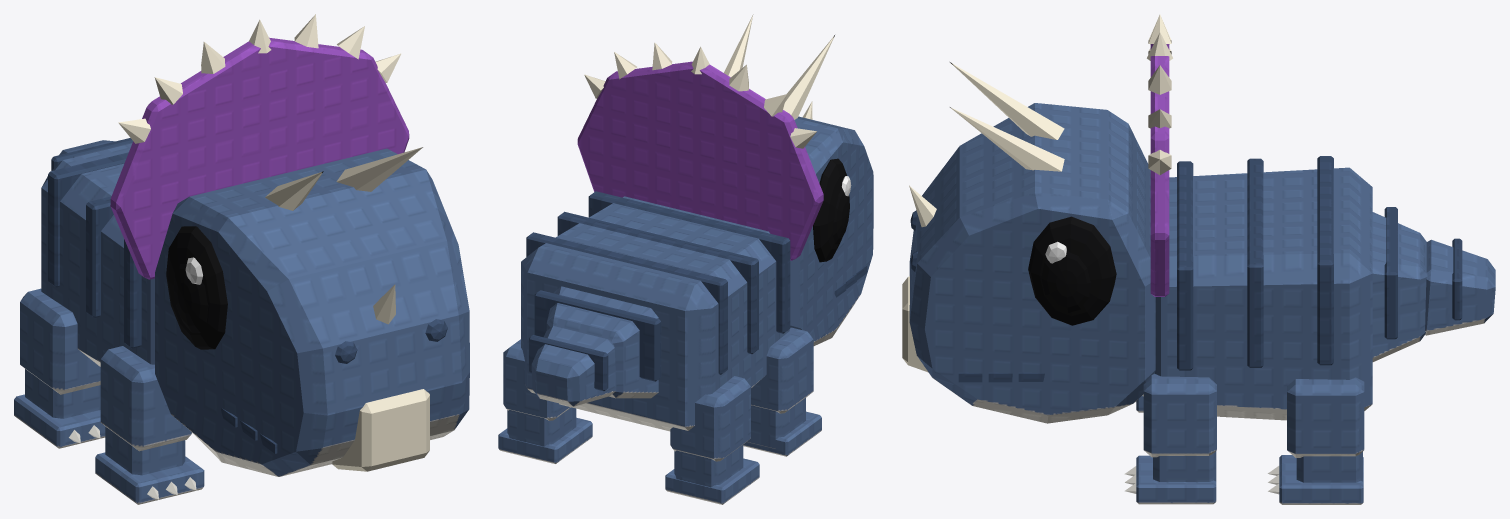
The model's file is bebe_11_Triceratops.glb.
The picture shows the model from 3 angles, left to right: view 1: azimuth 30°, elevation 25°; view 2: azimuth 150°, elevation 25°; view 3: azimuth 270°, elevation 25°; orthographic projection. The views are drawn at different scales.
Parts seen in each view (by area): view 1: bebe_11_Triceratops; view 2: bebe_11_Triceratops; view 3: bebe_11_Triceratops.
Part boxes in pixels (x1=…): bebe_11_Triceratops: x1=14, y1=14, x2=469, y2=504; bebe_11_Triceratops: x1=498, y1=14, x2=873, y2=504; bebe_11_Triceratops: x1=902, y1=14, x2=1495, y2=504.
Size of the model in its own units: 2.16 by 3.13 by 4.09.
1 material, 1 textured.
